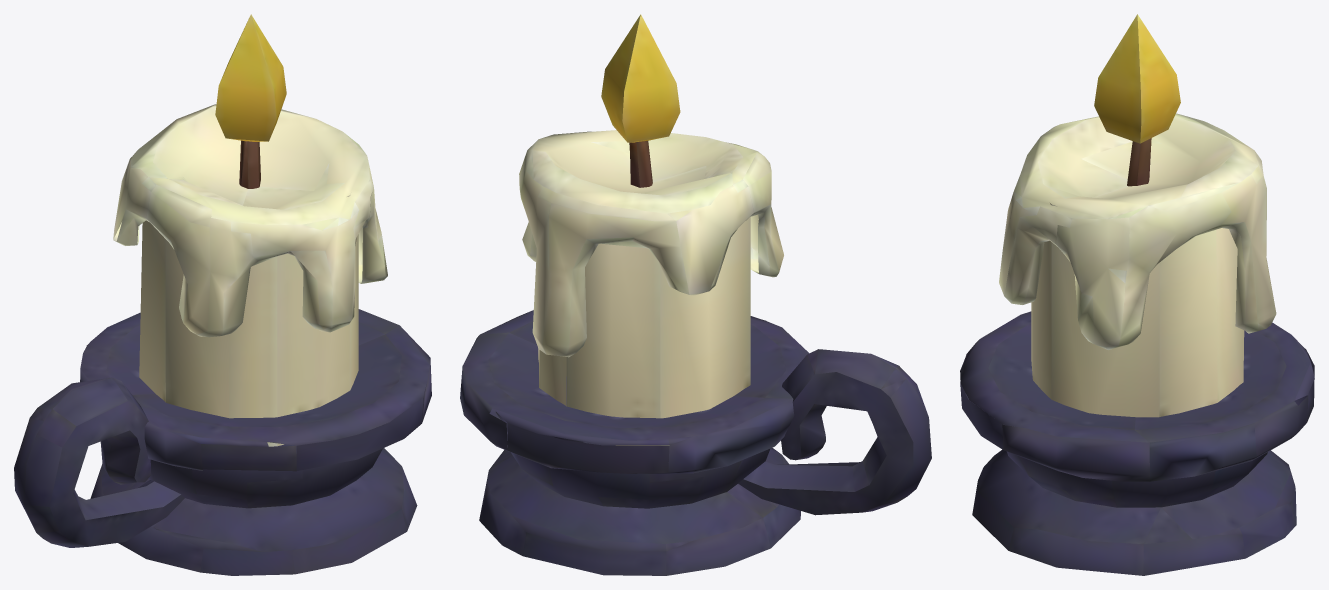
Rendered from kit-candle.lod.glb.
3 renders of one model, left to right at view 1: azimuth 30°, elevation 25°; view 2: azimuth 150°, elevation 25°; view 3: azimuth 270°, elevation 25°, orthographic.
Visible parts, largest first — view 1: WBA_Decoration_Candle_01_WBA_MAT_Halloween_Atlas_0.001; view 2: WBA_Decoration_Candle_01_WBA_MAT_Halloween_Atlas_0.001; view 3: WBA_Decoration_Candle_01_WBA_MAT_Halloween_Atlas_0.001.
Part boxes in pixels (x1,y1,x2,y2): WBA_Decoration_Candle_01_WBA_MAT_Halloween_Atlas_0.001: (14, 14, 431, 575); WBA_Decoration_Candle_01_WBA_MAT_Halloween_Atlas_0.001: (460, 14, 931, 575); WBA_Decoration_Candle_01_WBA_MAT_Halloween_Atlas_0.001: (960, 14, 1314, 575).
Bounding box in the file's own units: 0.2081 × 0.2363 × 0.1535.
Materials: 1 (1 with a texture image).
